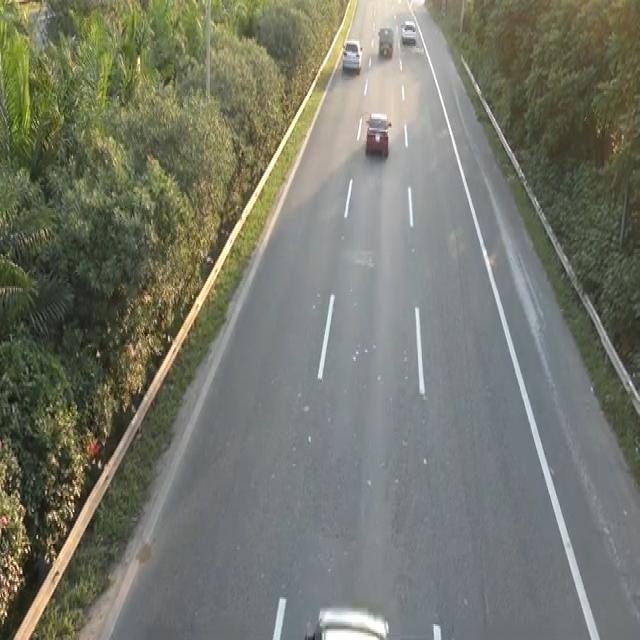bus: (362, 107, 394, 165), (341, 37, 363, 73), (400, 18, 416, 44)
minivan: (377, 25, 394, 57)
